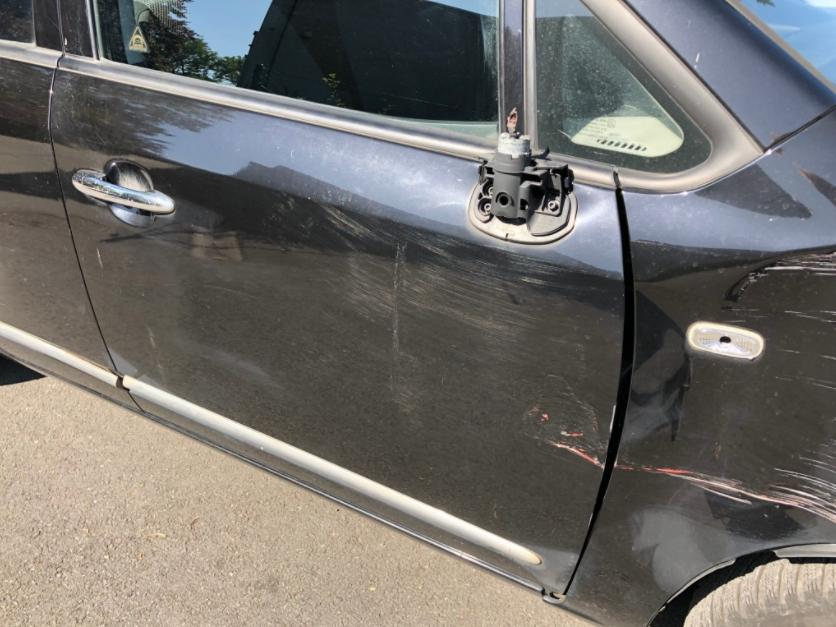Back-door: (1, 0, 137, 411)
Back-window: (0, 4, 34, 43)
Fender: (553, 154, 835, 627)
Front-door: (51, 0, 627, 597)
Front-wheel: (681, 558, 835, 626)
Front-window: (101, 0, 502, 137), (536, 0, 711, 171)
Hood: (776, 110, 835, 202)
Mirror: (468, 114, 575, 245)
Windshield: (739, 0, 835, 84)
